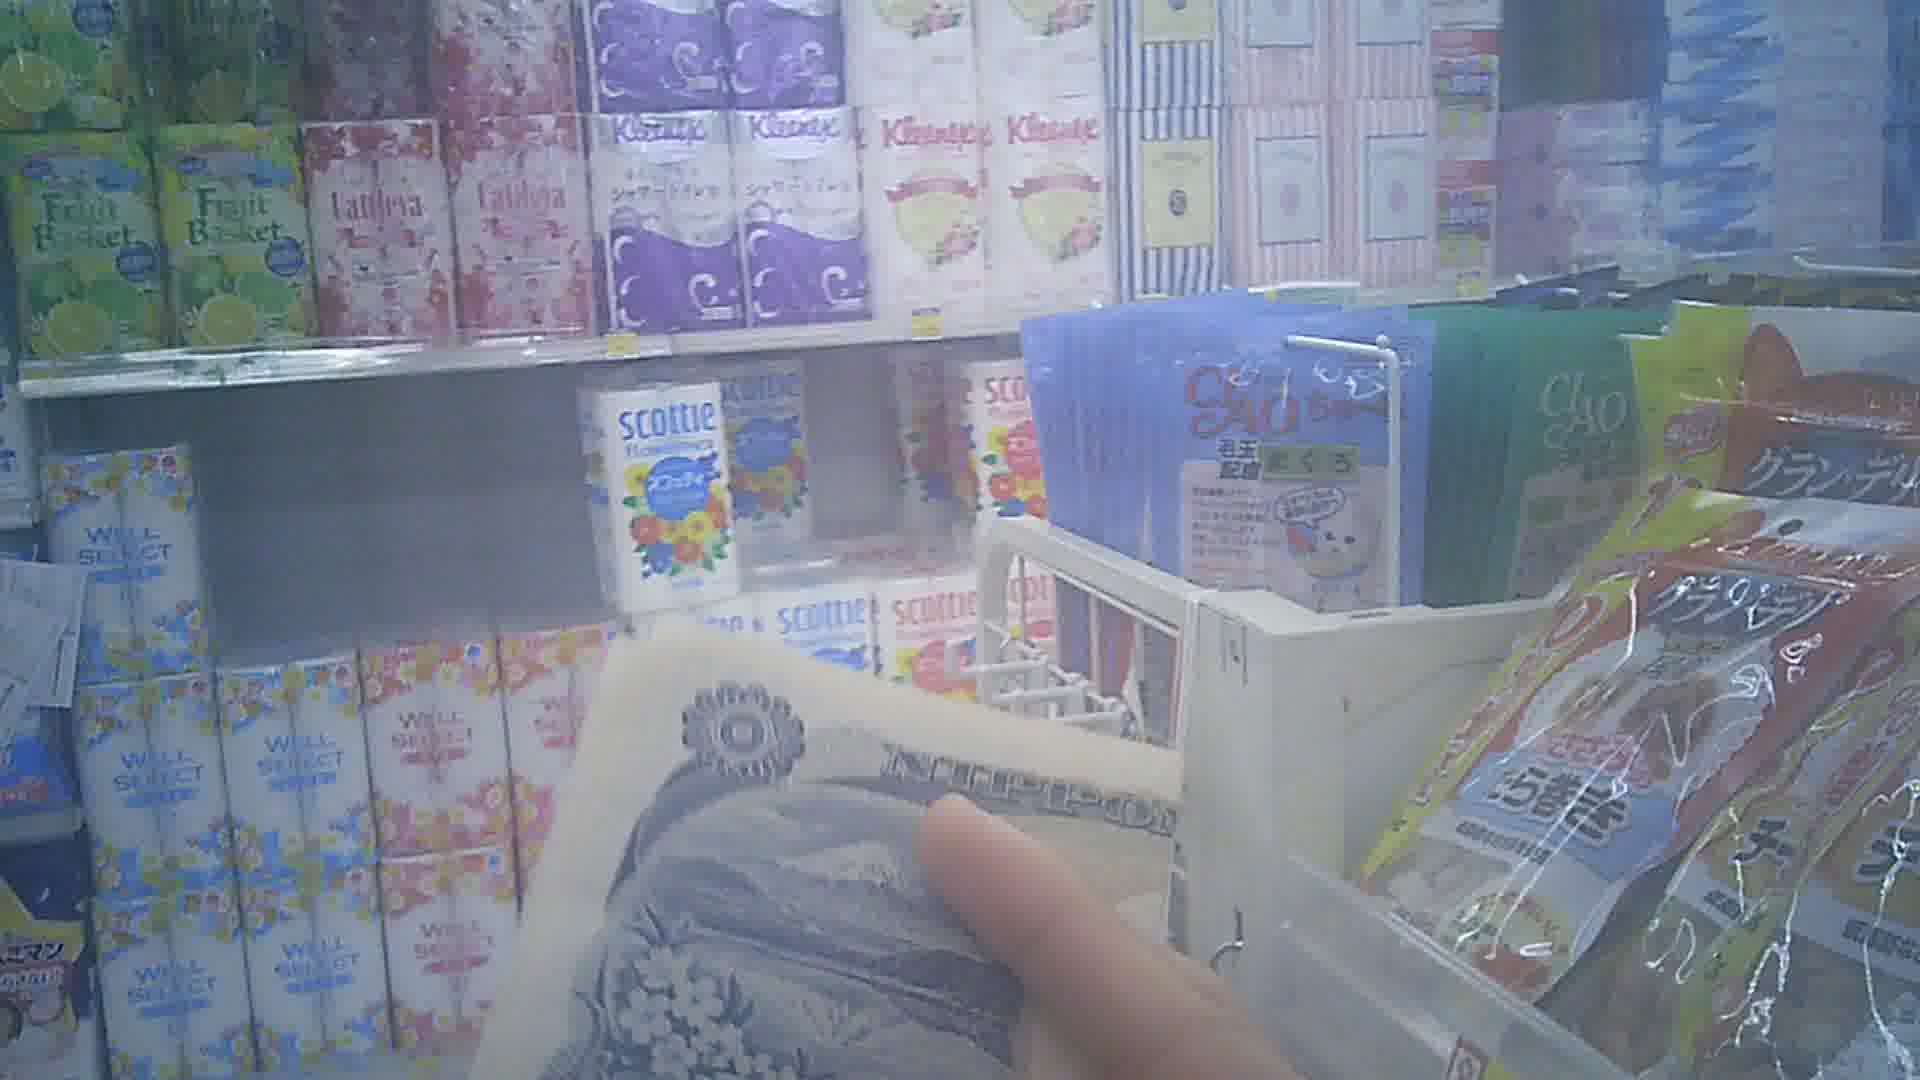1,000 Yen: (524, 626, 1193, 1072)
